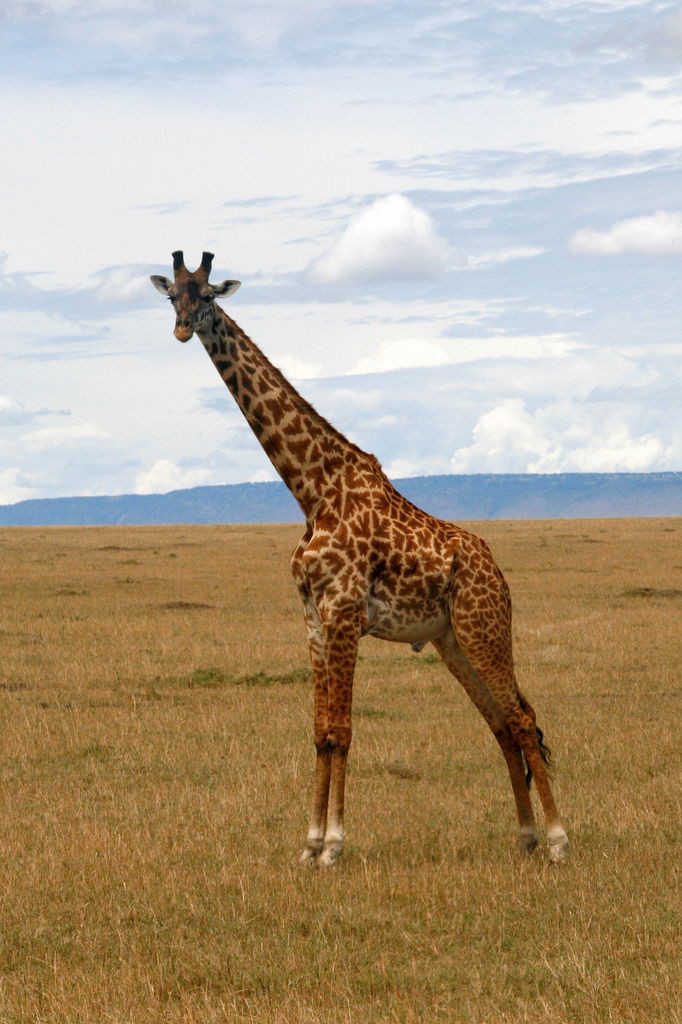giraffe: (173, 224, 587, 874)
